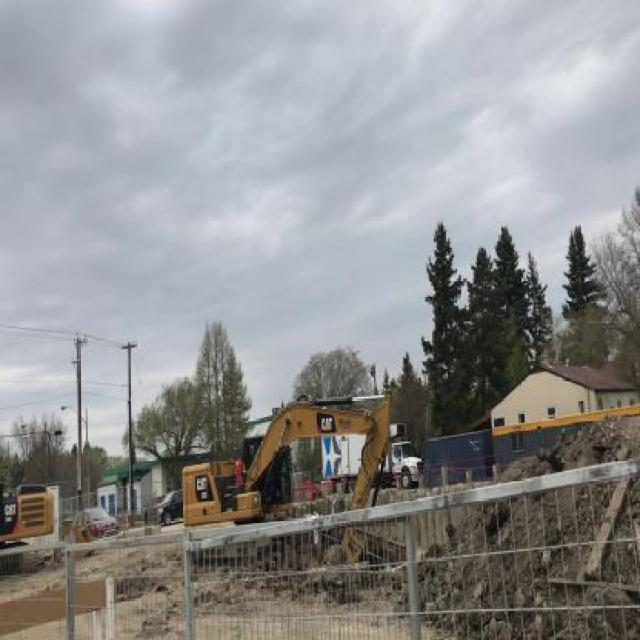excavator: (178, 384, 399, 598), (0, 478, 55, 578)
